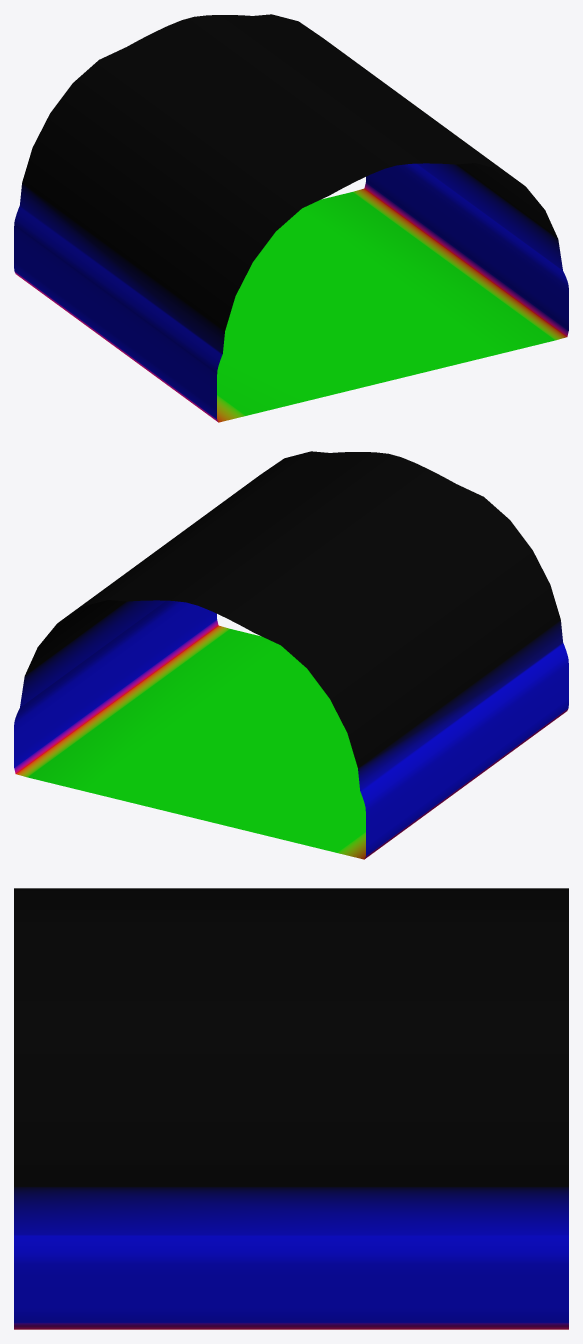
The model's file is GiantTunnelV1Base.fbx.
3 renders of one model, top to bottom at view 1: azimuth 30°, elevation 25°; view 2: azimuth 150°, elevation 25°; view 3: azimuth 270°, elevation 25°, orthographic. The views are drawn at different scales.
Visible parts, largest first — view 1: GiantTunnelV1Base; view 2: GiantTunnelV1Base; view 3: GiantTunnelV1Base.
Boxes of the visible parts, x1,y1,x2,y2 form: GiantTunnelV1Base: [14, 14, 568, 422]; GiantTunnelV1Base: [14, 451, 568, 859]; GiantTunnelV1Base: [14, 888, 568, 1329].
Bounding box in the file's own units: 2003 × 1162 × 2000.
